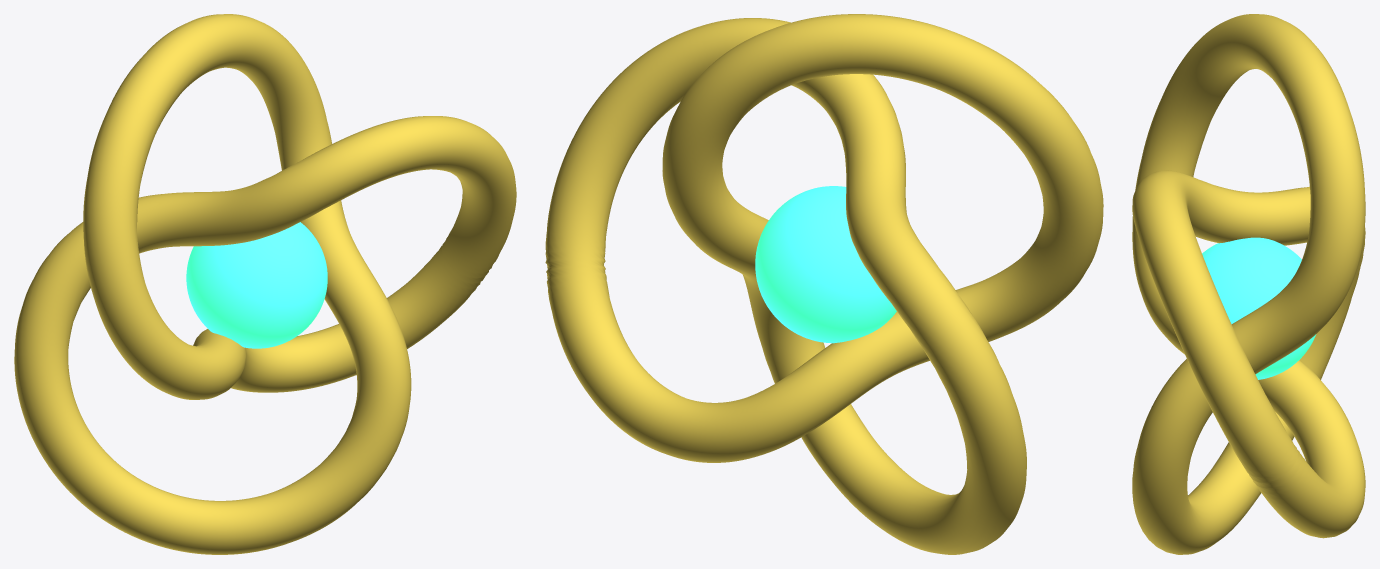
File: knot.glb
3 renders of one model, left to right at view 1: azimuth 30°, elevation 25°; view 2: azimuth 150°, elevation 25°; view 3: azimuth 270°, elevation 25°, orthographic. The views are drawn at different scales.
Parts seen in each view (by area): view 1: gold_knot_sculpture; view 2: gold_knot_sculpture; view 3: gold_knot_sculpture.
Boxes of the visible parts, x1,y1,x2,y2 form: gold_knot_sculpture: (14,14,516,554); gold_knot_sculpture: (545,14,1103,554); gold_knot_sculpture: (1132,14,1365,554).
Size of what is drawn, in the model's own units: 1.14 by 1.2 by 0.5009.
